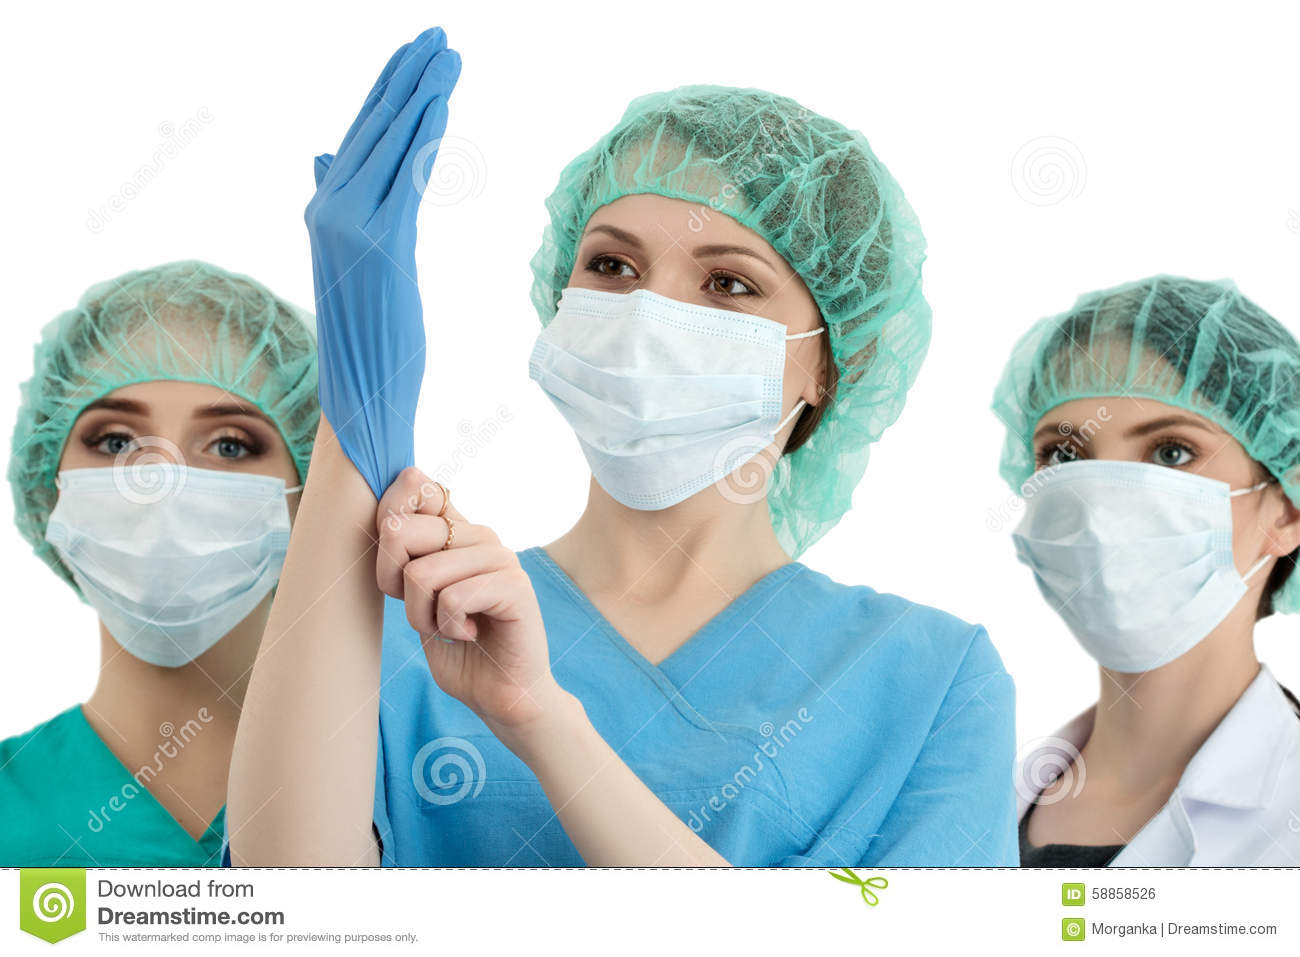mask: (531, 283, 788, 511), (42, 460, 303, 671), (1004, 467, 1267, 660)
